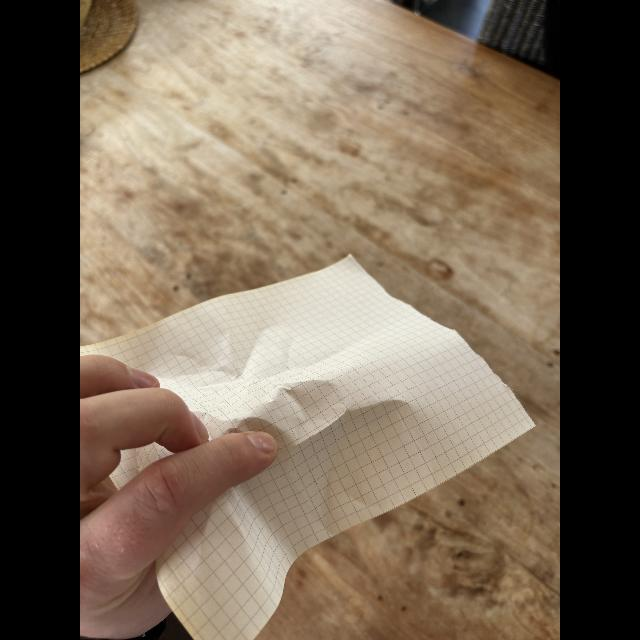Paper: (89, 253, 540, 640)
